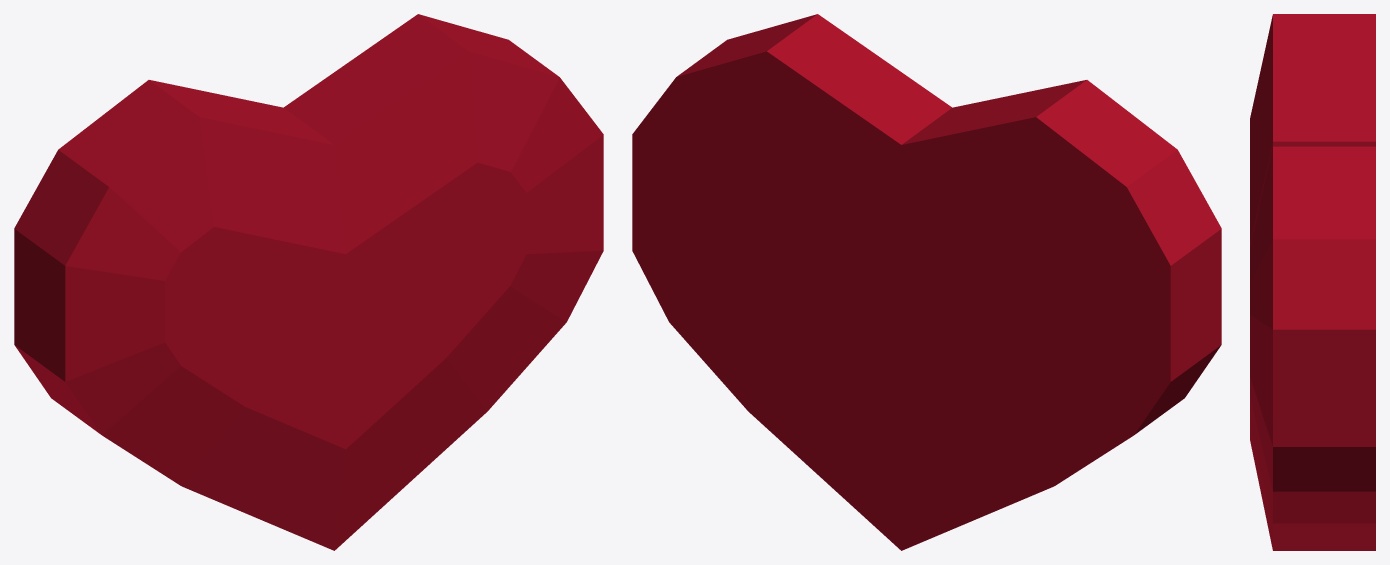
The model's file is sziv.DAE.
3 views of the same model, side by side, from view 1: azimuth 30°, elevation 25°; view 2: azimuth 150°, elevation 25°; view 3: azimuth 270°, elevation 25° (orthographic).
Visible parts, largest first — view 1: asd; view 2: asd; view 3: asd.
Part boxes in pixels (x1,y1,x2,y2): asd: (14,14,603,550); asd: (632,14,1221,550); asd: (1250,14,1375,550).
Size of the model in its own units: 32.39 by 6.5 by 26.82.
Materials: 1 (1 with a texture image).
